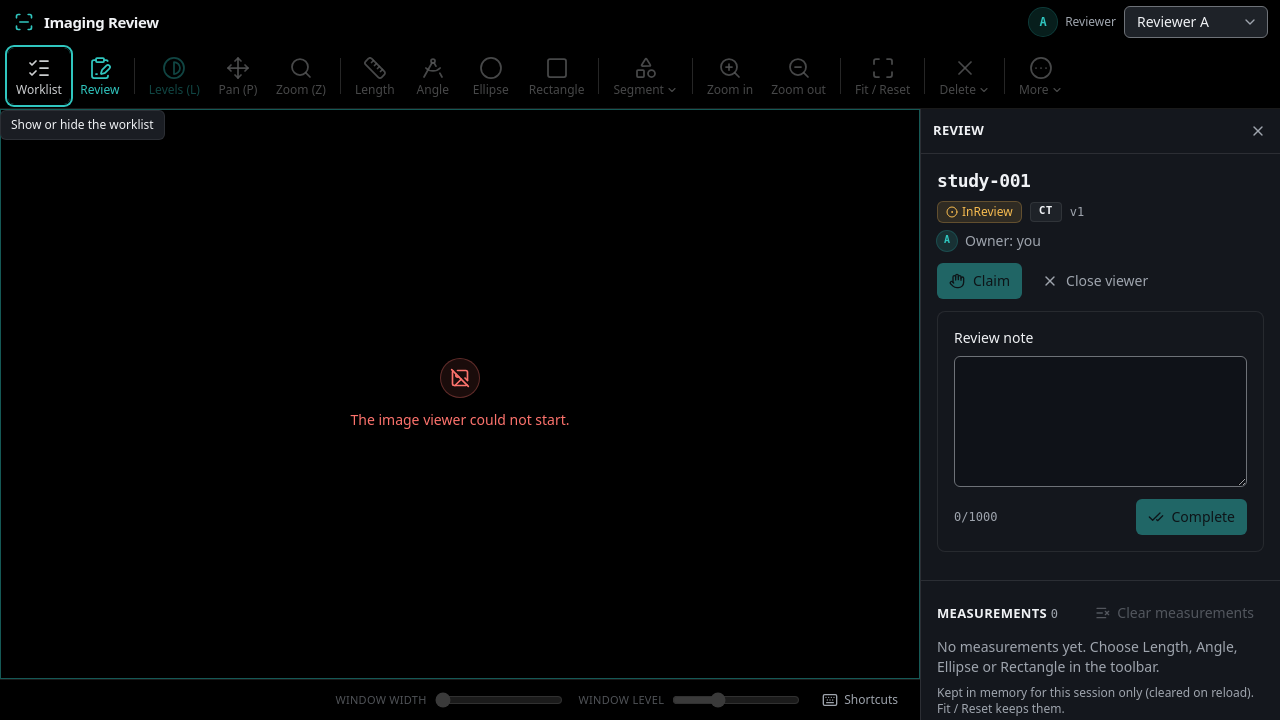
StudyPanel › stale completion (412) keeps the draft, shows current version, disables Complete until Refresh and continue
The image size is (1280, 720).
In the text box labelled "Review note": (1100, 421) top-left (954, 356), bottom-right (1247, 487), type "note A"
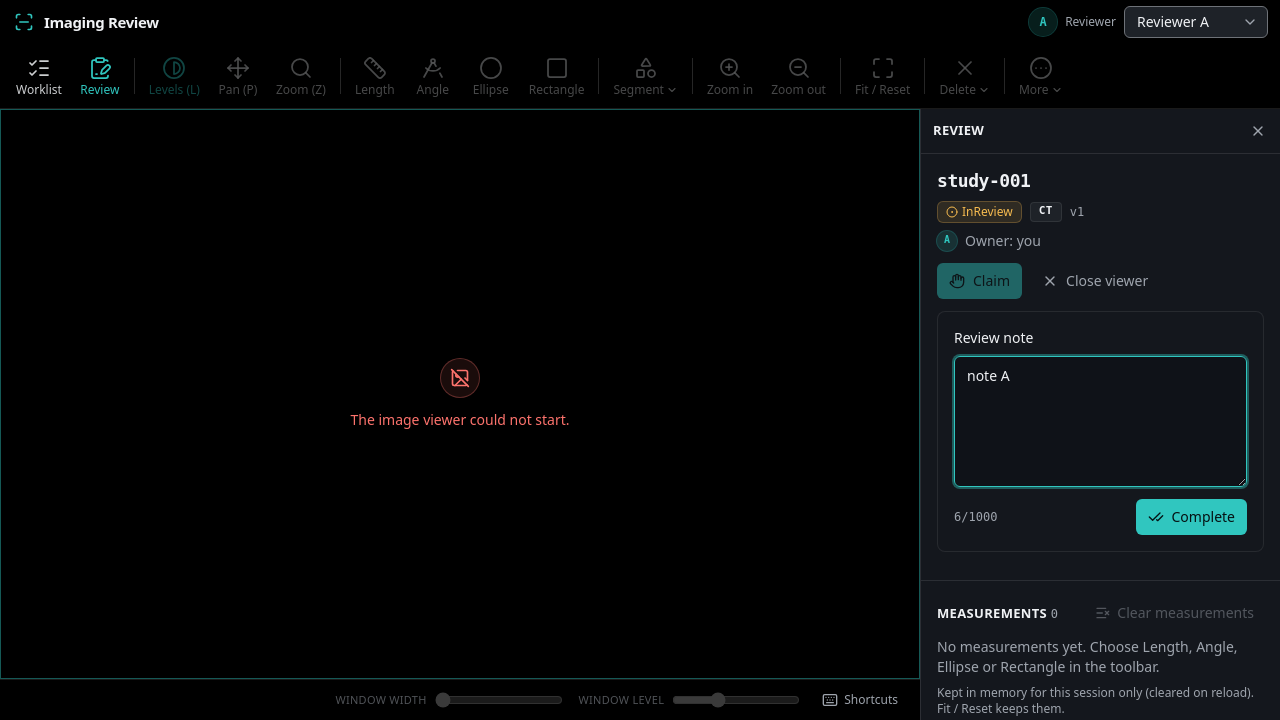
Click the button "Complete": click(1191, 517) top-left (1136, 499), bottom-right (1247, 535)
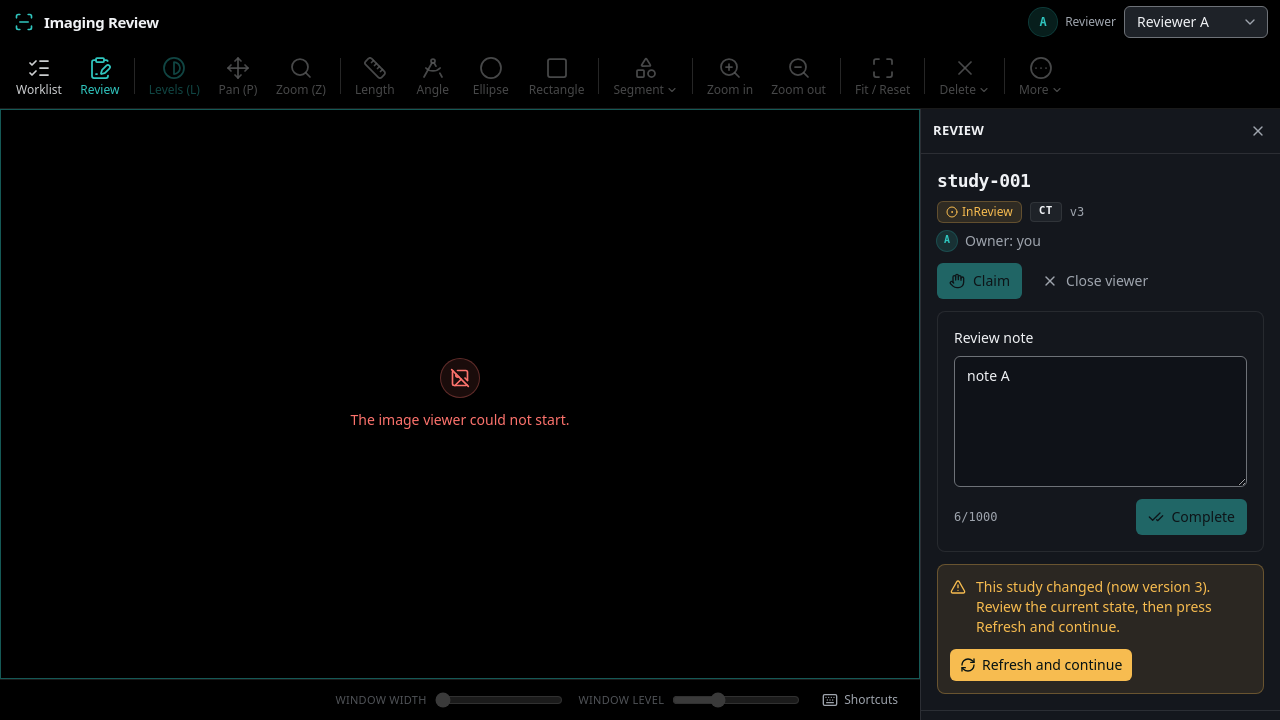
Now the text "now version 3" is shown, box top-left (976, 577), bottom-right (1251, 637)
Now the button "Complete" is disabled, box top-left (1136, 499), bottom-right (1247, 535)
Click the button "Refresh and continue": click(1041, 665) top-left (950, 649), bottom-right (1132, 681)
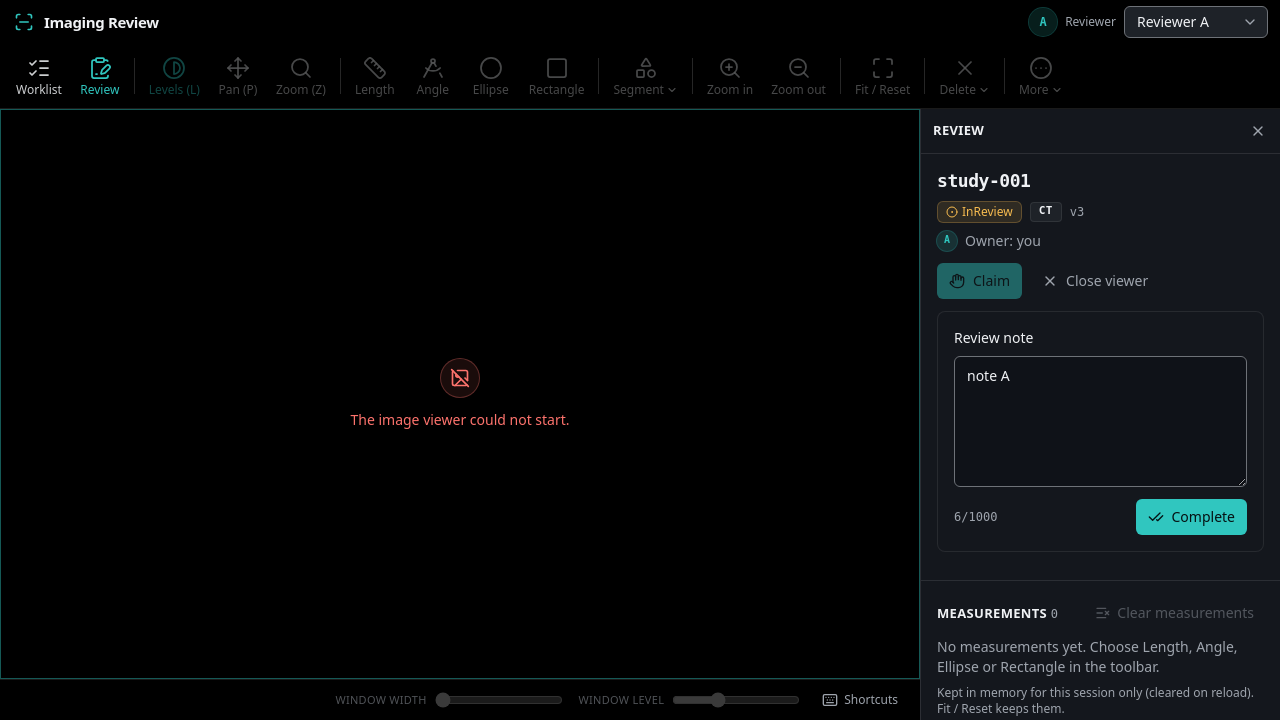
Now the button "Complete" is enabled, box top-left (1136, 499), bottom-right (1247, 535)
